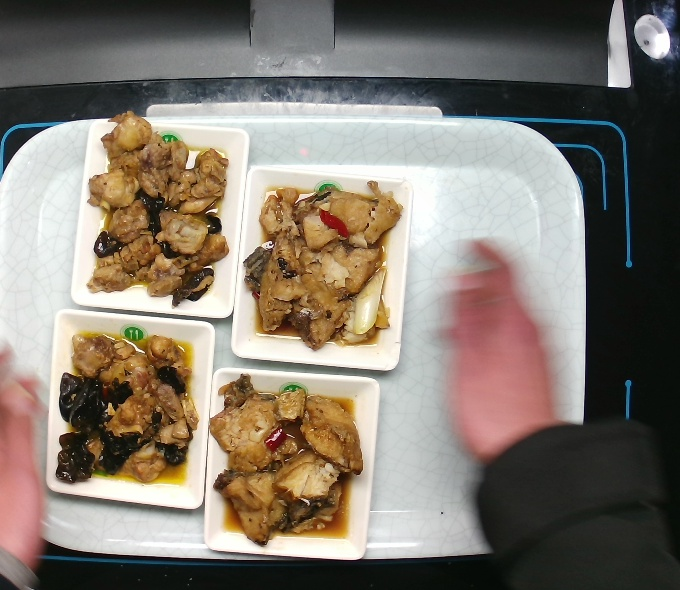wcq-MuErRouKuai: (81, 104, 236, 308), (53, 326, 199, 497)
wcq-YuKuai: (241, 171, 404, 358), (205, 375, 370, 549)
